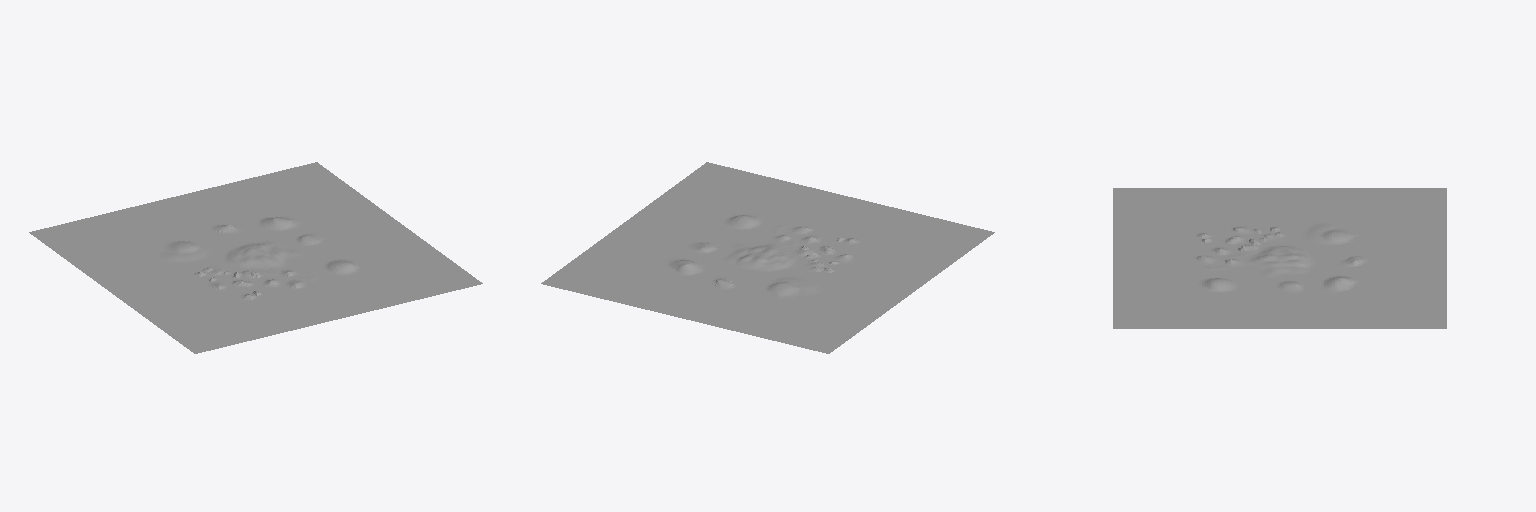
Rendered from ice.obj.
3 renders of one model, left to right at view 1: azimuth 30°, elevation 25°; view 2: azimuth 150°, elevation 25°; view 3: azimuth 270°, elevation 25°, orthographic.
Visible parts, largest first — view 1: Plane.002_Plane; view 2: Plane.002_Plane; view 3: Plane.002_Plane.
Boxes of the visible parts, x1,y1,x2,y2 form: Plane.002_Plane: [29, 162, 482, 353]; Plane.002_Plane: [541, 162, 994, 353]; Plane.002_Plane: [1113, 188, 1446, 328].
Bounding box in the file's own units: 610 × 8.66 × 610.